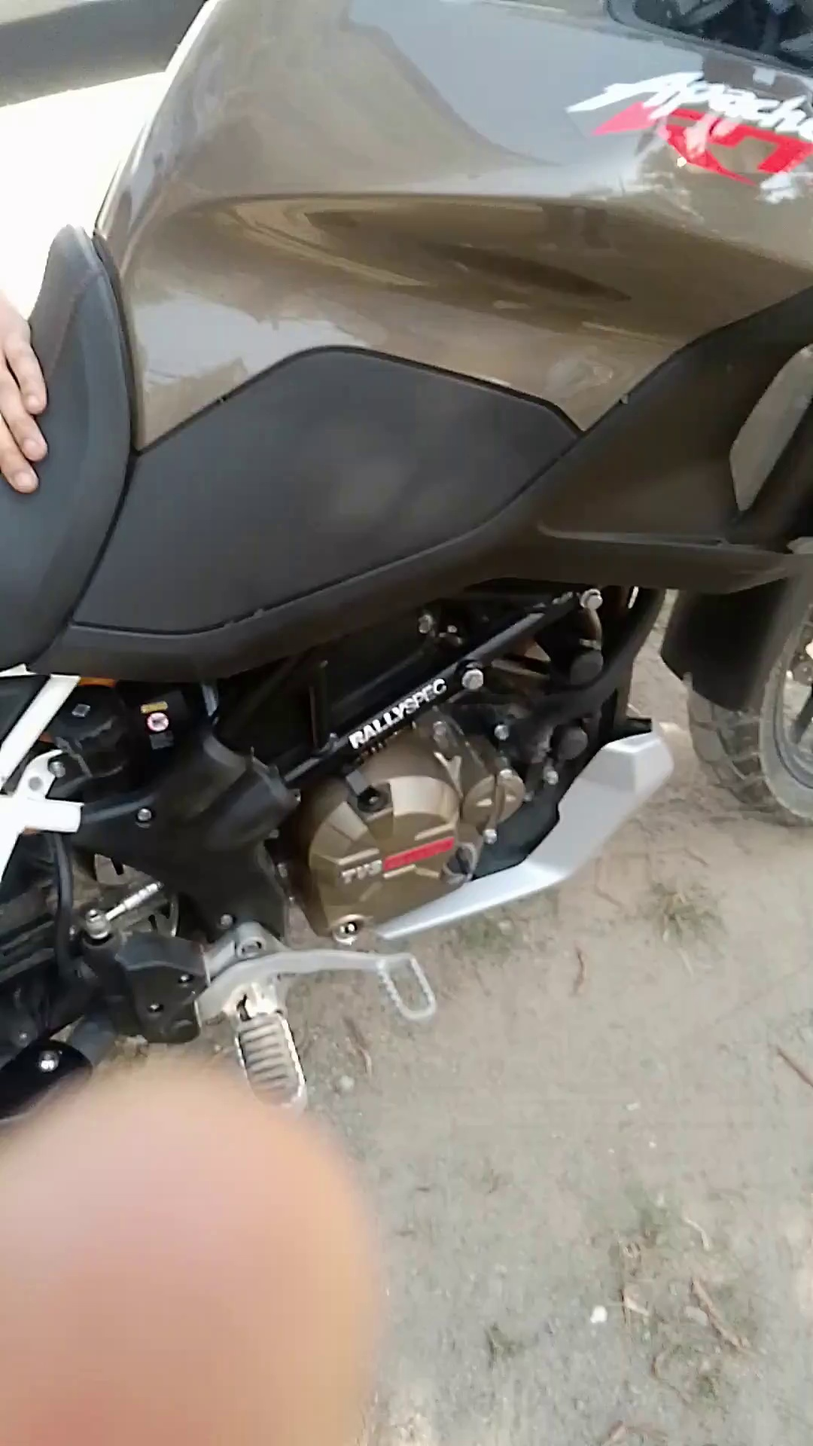engine: (271, 651, 561, 979)
